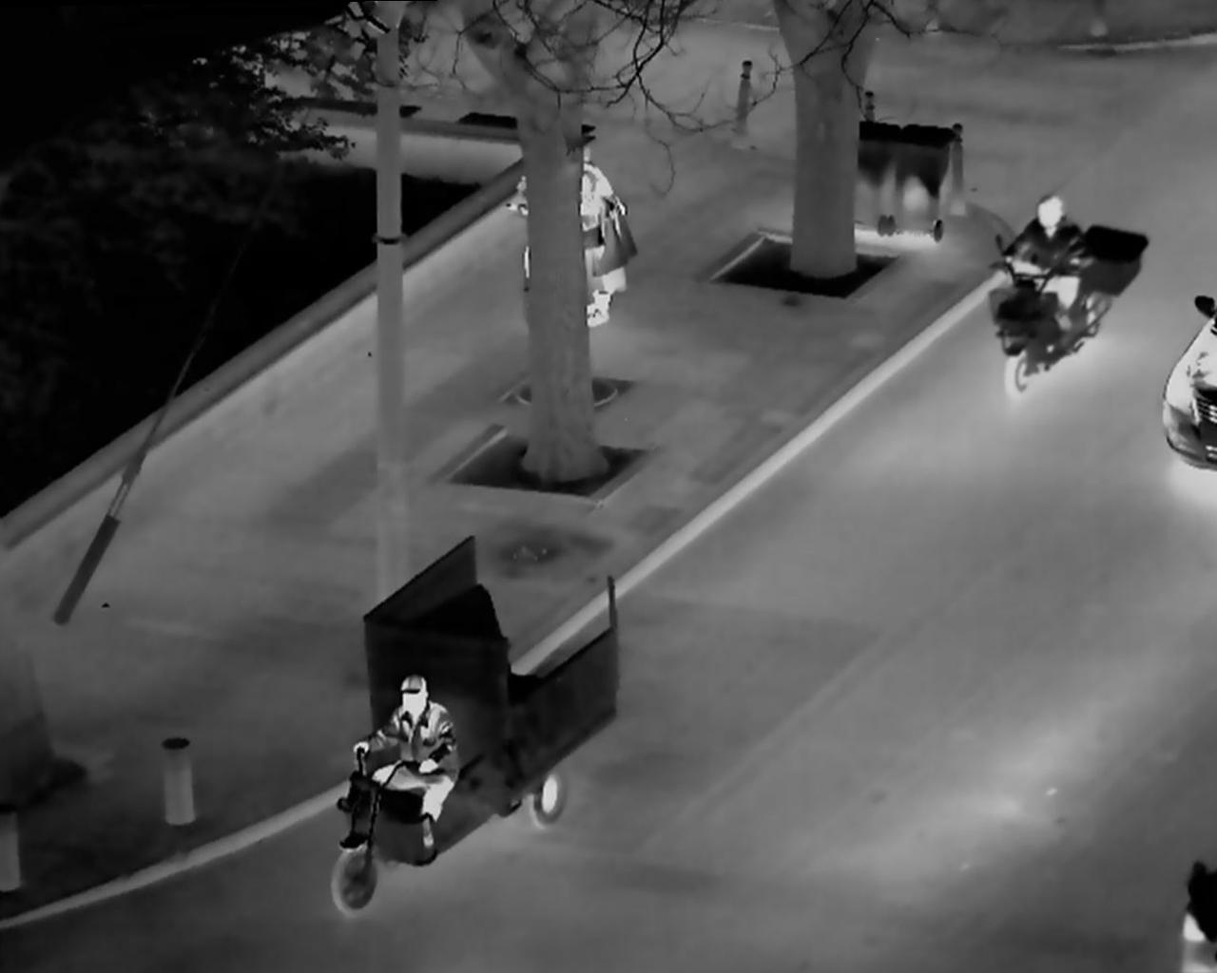person: (988, 179, 1130, 404), (343, 659, 465, 873), (570, 139, 640, 326)
